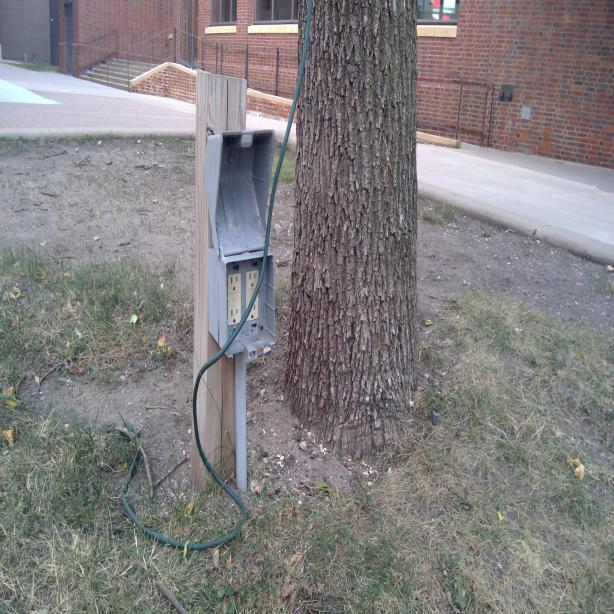typeb: (228, 271, 242, 295), (230, 306, 241, 323), (246, 271, 256, 288), (250, 304, 258, 320)
